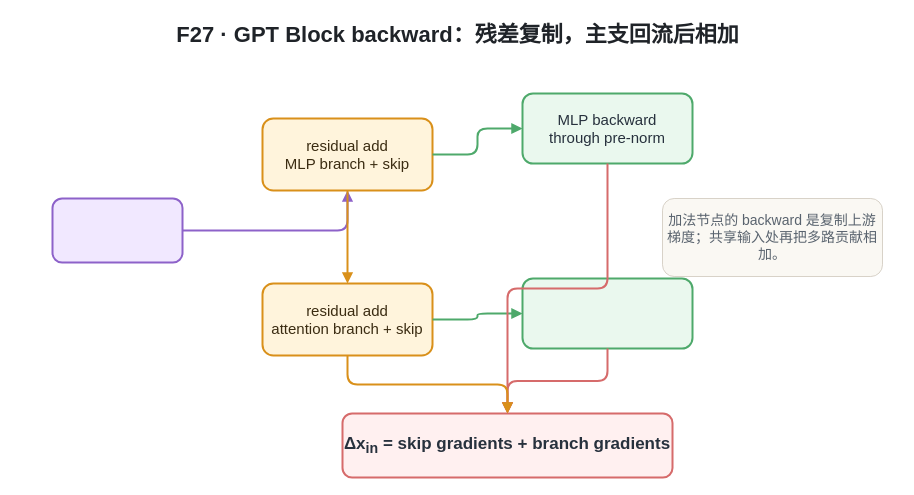
The diagram is 914 pixels wide and 495 high, and some of its shapes have lost their labels. The centre of each missing label's shape, as x and y in pixels:
Attention backward through pre-norm: (x=607, y=313)
Δx out: (x=117, y=230)
